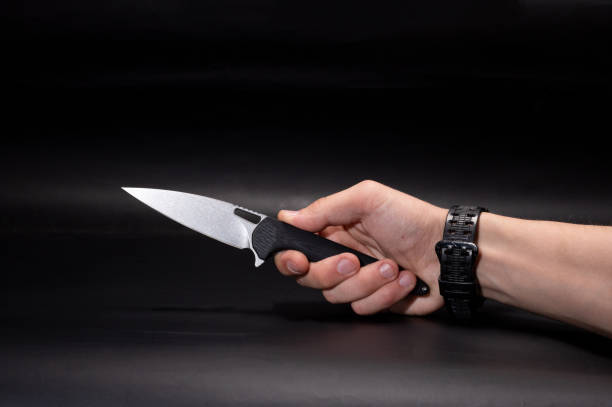knife: (116, 185, 431, 298)
